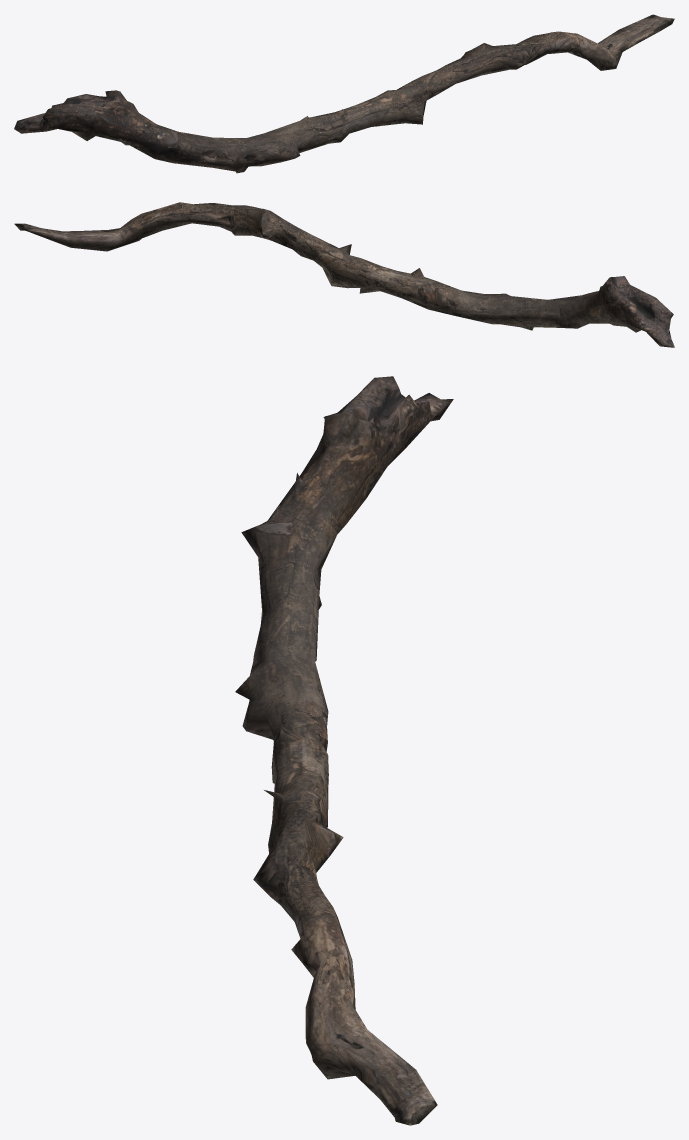
File: SM_Stick.fbx
3 views of the same model, one above another, from view 1: azimuth 30°, elevation 25°; view 2: azimuth 150°, elevation 25°; view 3: azimuth 270°, elevation 25° (orthographic). The views are drawn at different scales.
Parts seen in each view (by area): view 1: SM_Stick; view 2: SM_Stick; view 3: SM_Stick.
Part boxes in pixels (x1,y1,x2,y2): SM_Stick: [14, 14, 674, 173]; SM_Stick: [14, 202, 674, 347]; SM_Stick: [235, 376, 453, 1125].
Size of the model in its own units: 1 by 0.1356 by 0.145.
